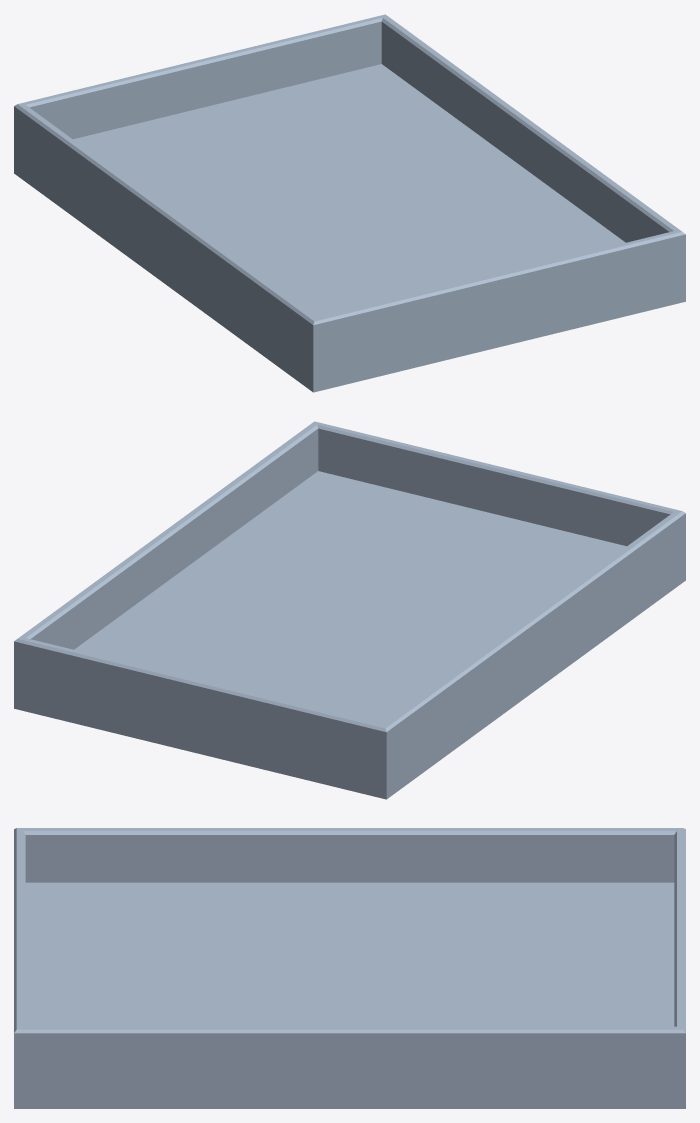
File: OilCartoon.fbx
The picture shows the model from 3 angles, top to bottom: view 1: azimuth 30°, elevation 25°; view 2: azimuth 150°, elevation 25°; view 3: azimuth 270°, elevation 25°; orthographic projection. The views are drawn at different scales.
Parts seen in each view (by area): view 1: Cube; view 2: Cube; view 3: Cube.
Boxes of the visible parts, bbox=[...] form: Cube: bbox=[14, 14, 685, 392]; Cube: bbox=[14, 421, 685, 799]; Cube: bbox=[14, 828, 685, 1108].
Bounding box in the file's own units: 1345 × 240 × 1871.
